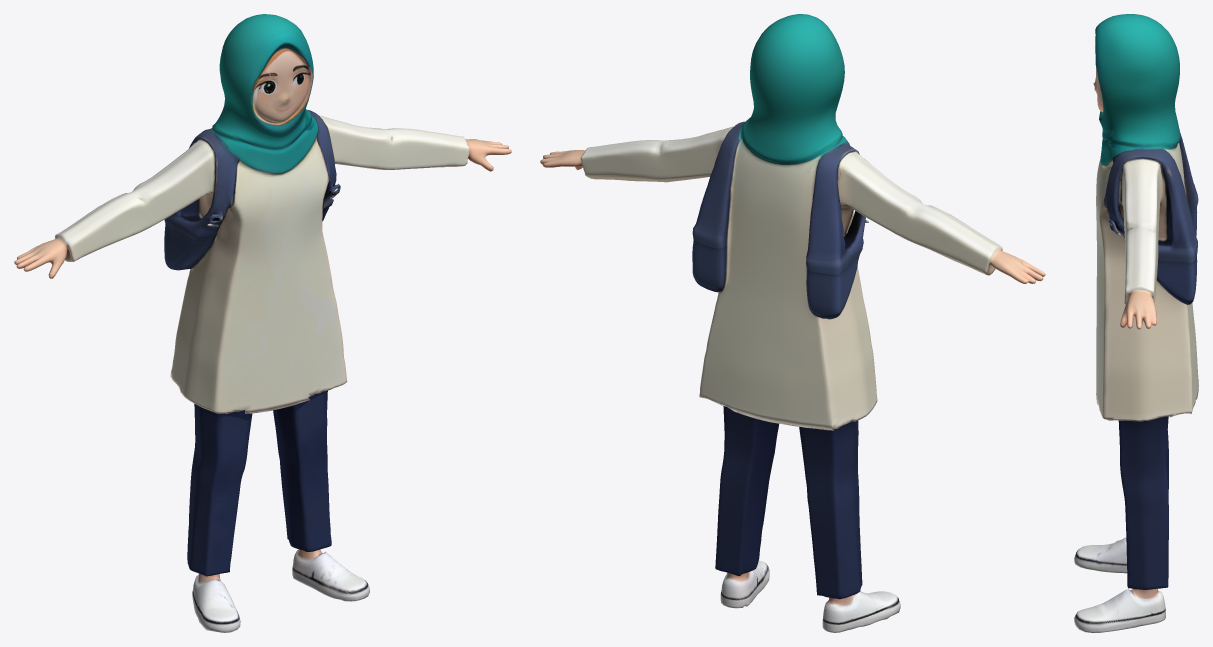
The model's file is mumu.glb.
The picture shows the model from 3 angles, left to right: view 1: azimuth 30°, elevation 25°; view 2: azimuth 150°, elevation 25°; view 3: azimuth 270°, elevation 25°; orthographic projection.
Parts seen in each view (by area): view 1: model; view 2: model; view 3: model.
Part boxes in pixels (x1=…): model: x1=14, y1=14, x2=511, y2=632; model: x1=540, y1=14, x2=1045, y2=632; model: x1=1074, y1=14, x2=1198, y2=632.
Size of the model in its own units: 1.53 by 1.72 by 0.3368.
Materials: 1 (1 with a texture image).
